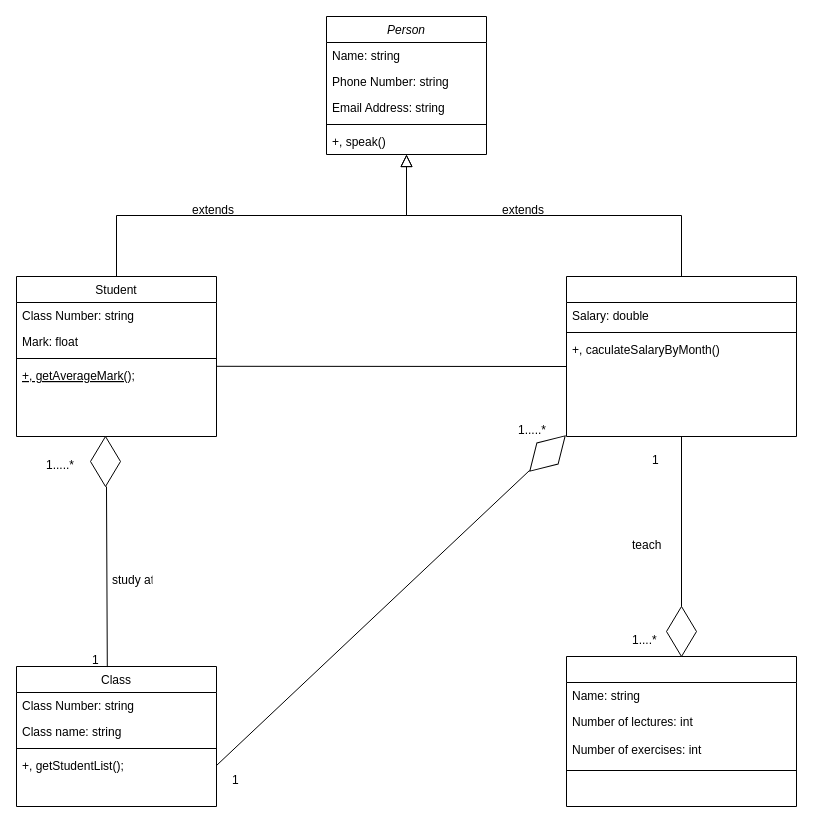
The diagram is 813 pixels wide and 823 high, and some of its shapes have lost their labels. The box of each missing label's shape, as (x1, y1, x2, y2) in pixels:
Discipline: (566, 656, 796, 806)
Teacher: (566, 276, 796, 436)
